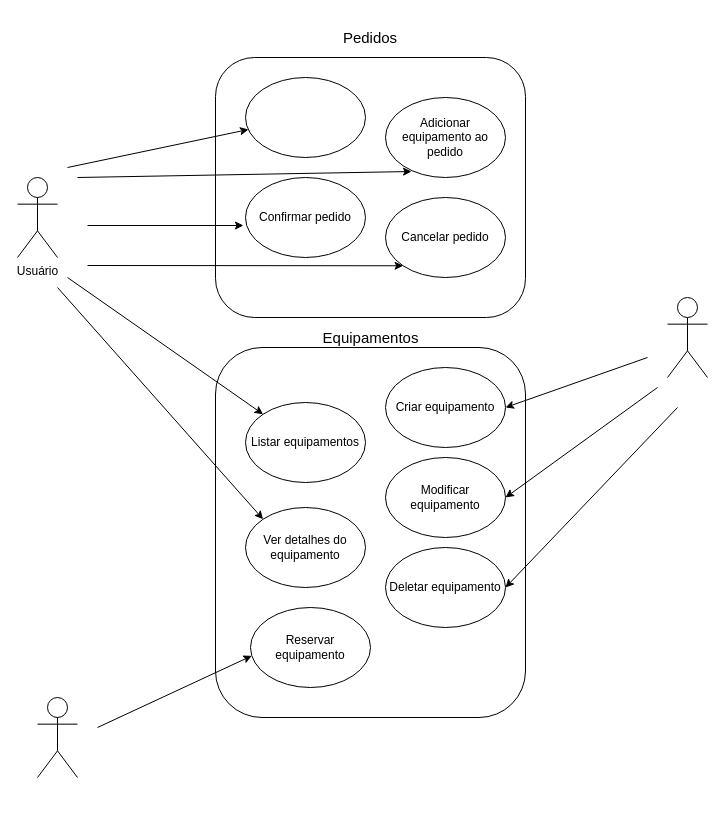
Some shapes in this 725 by 815 pixel diagram are drawn without their labels. Here are the shapes that lost their labels. From the top down, the centre of each, then its label:
the point at 305,117: Criar novo pedido
the point at 687,337: Admin
the point at 57,737: Sistema
